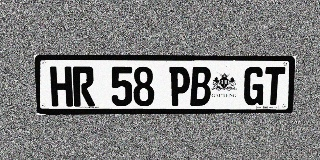5: (111, 67, 133, 106)
8: (133, 67, 154, 106)
B: (190, 67, 211, 106)
G: (243, 67, 265, 105)
H: (50, 66, 73, 107)
P: (169, 67, 190, 106)
R: (72, 66, 95, 106)
T: (263, 67, 285, 105)
